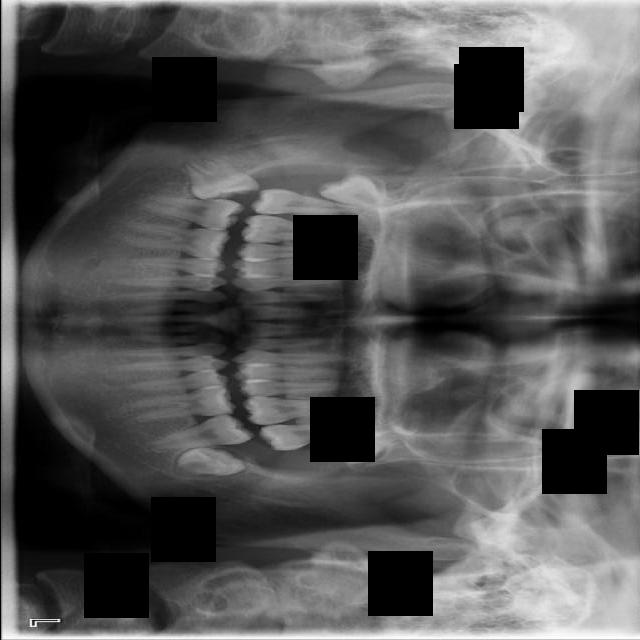3M ESPE Implant: (315, 163, 410, 221)
73: (52, 603, 57, 609)
BioHorizons Implant: (258, 420, 374, 452)
BioLife Implant: (317, 422, 419, 470)
Biomet 3i Implant: (171, 445, 248, 482)
Blue Sky Bio Implant: (145, 412, 254, 453)
Caries: (249, 186, 357, 216)
Implant: (137, 180, 246, 235)
Keystone Dental Implant: (180, 158, 259, 200)
